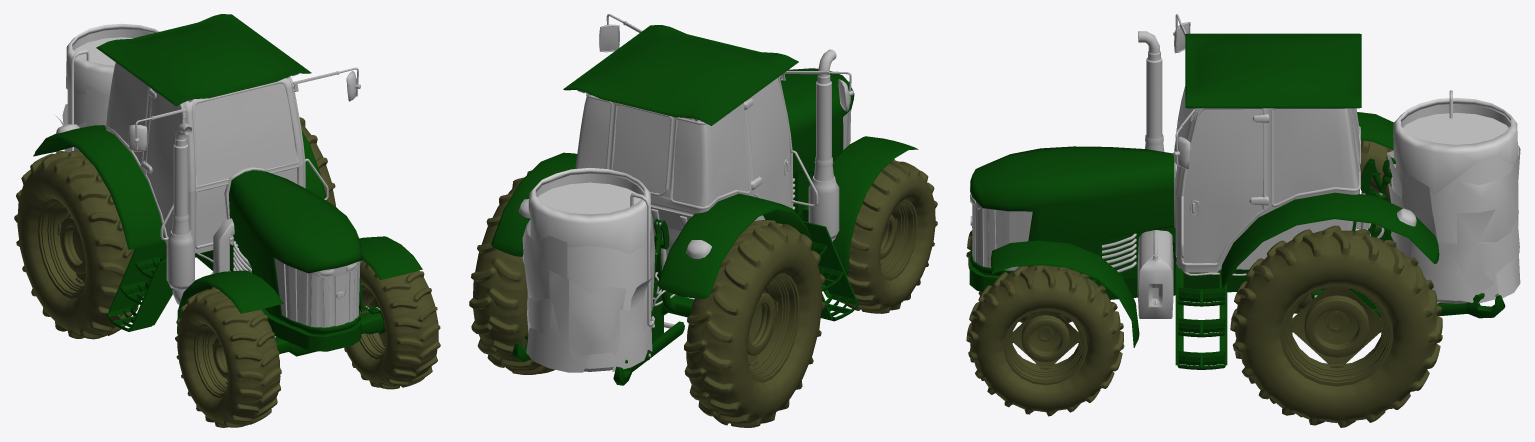
The model's file is WaterCar.fbx.
3 views of the same model, side by side, from view 1: azimuth 30°, elevation 25°; view 2: azimuth 150°, elevation 25°; view 3: azimuth 270°, elevation 25° (orthographic). The views are drawn at different scales.
Parts seen in each view (by area): view 1: group2_pasted__pCube14_pasted__pCube14, pCylinder85, pCylinder88.001, polySurface211, polySurface225, pCylinder90, polySurface212, WaterTank_Low, polySurface202, polySurface198, polySurface222, polySurface181 (+5 smaller); view 2: group2_pasted__pCube14_pasted__pCube14, WaterTank_Low, pCylinder85, polySurface225, pCylinder88.001, pCylinder87, polySurface212, polySurface202, polySurface211, polySurface189, polySurface178, polySurface164 (+4 smaller); view 3: group2_pasted__pCube14_pasted__pCube14, pCylinder87, WaterTank_Low, pCylinder90, polySurface211, polySurface225, polySurface189, polySurface198, polySurface226, polySurface145, pCylinder85, polySurface212 (+5 smaller).
Boxes of the visible parts, x1,y1,x2,y2 form: group2_pasted__pCube14_pasted__pCube14: (56, 62, 379, 327); pCylinder85: (14, 150, 138, 339); pCylinder88.001: (175, 287, 281, 427); polySurface211: (229, 170, 362, 333); polySurface225: (96, 14, 311, 106); pCylinder90: (344, 260, 440, 389); polySurface212: (33, 125, 165, 249); WaterTank_Low: (55, 23, 159, 152); polySurface202: (177, 270, 283, 333); polySurface198: (359, 236, 422, 279); polySurface222: (261, 308, 361, 351); polySurface181: (108, 242, 166, 312); group2_pasted__pCube14_pasted__pCube14: (518, 14, 853, 356); WaterTank_Low: (522, 167, 655, 372); pCylinder85: (684, 220, 825, 427); polySurface225: (563, 25, 798, 125); pCylinder88.001: (839, 159, 937, 313); pCylinder87: (469, 170, 554, 374); polySurface212: (657, 193, 813, 298); polySurface202: (806, 136, 918, 274); polySurface211: (780, 68, 854, 173); polySurface189: (491, 152, 577, 256); polySurface178: (802, 221, 856, 299); polySurface164: (613, 321, 684, 385); group2_pasted__pCube14_pasted__pCube14: (970, 14, 1416, 318); pCylinder87: (1230, 225, 1442, 427); WaterTank_Low: (1387, 90, 1520, 303); pCylinder90: (966, 265, 1124, 416); polySurface211: (970, 146, 1174, 275); polySurface225: (1185, 33, 1361, 108); polySurface189: (1221, 192, 1439, 289); polySurface198: (991, 240, 1139, 347); polySurface226: (976, 226, 1175, 285); polySurface145: (1102, 271, 1248, 299); pCylinder85: (1294, 140, 1393, 313); polySurface212: (1357, 112, 1393, 149).
Size of the model in its own units: 308 by 336 by 540.
